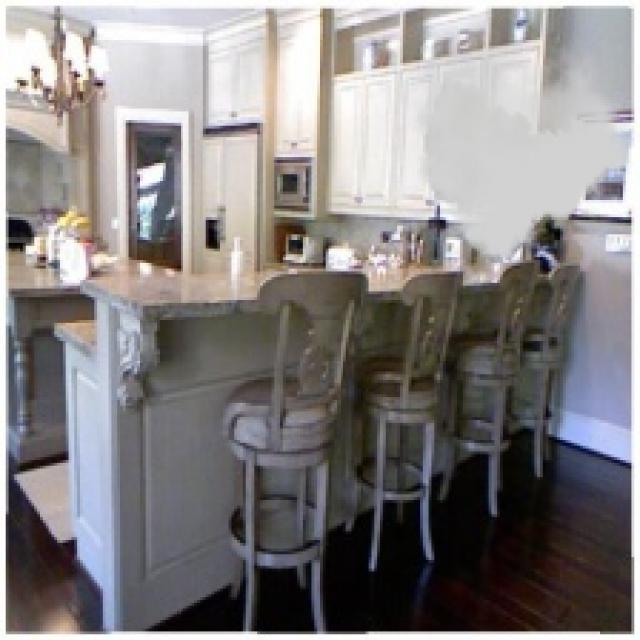smoke: (414, 46, 632, 257)
